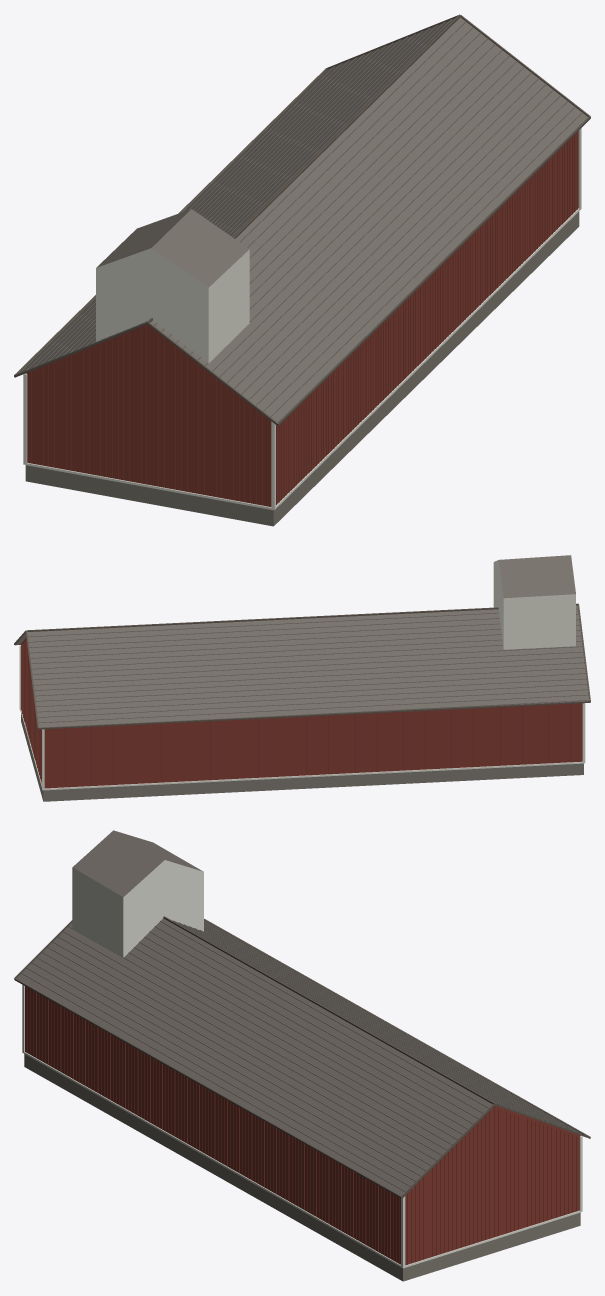
3 renders of one model, top to bottom at view 1: azimuth 30°, elevation 25°; view 2: azimuth 150°, elevation 25°; view 3: azimuth 270°, elevation 25°, orthographic. The views are drawn at different scales.
Visible parts, largest first — view 1: Tortuna facility | carpark-west-barn | Roof tile, Tortuna facility | carpark-west-barn | Timber, Tortuna facility | carpark-west-barn | Batten, Tortuna facility | carpark-west-barn | Tile course, Tortuna facility | carpark-west-barn | White trim, Tortuna facility | carpark-west-barn | Foundation, Tortuna facility | carpark-west-barn | Roof flashing; view 2: Tortuna facility | carpark-west-barn | Roof tile, Tortuna facility | carpark-west-barn | Timber, Tortuna facility | carpark-west-barn | Tile course, Tortuna facility | carpark-west-barn | Batten, Tortuna facility | carpark-west-barn | Foundation, Tortuna facility | carpark-west-barn | White trim, Tortuna facility | carpark-west-barn | Roof flashing; view 3: Tortuna facility | carpark-west-barn | Roof tile, Tortuna facility | carpark-west-barn | Timber, Tortuna facility | carpark-west-barn | Batten, Tortuna facility | carpark-west-barn | Tile course, Tortuna facility | carpark-west-barn | White trim, Tortuna facility | carpark-west-barn | Foundation, Tortuna facility | carpark-west-barn | Roof flashing.
Part boxes in pixels (x1,y1,x2,y2): Tortuna facility | carpark-west-barn | Roof tile: [21, 17, 587, 422]; Tortuna facility | carpark-west-barn | Timber: [26, 131, 578, 506]; Tortuna facility | carpark-west-barn | Batten: [30, 132, 577, 506]; Tortuna facility | carpark-west-barn | Tile course: [19, 19, 582, 422]; Tortuna facility | carpark-west-barn | White trim: [23, 128, 581, 510]; Tortuna facility | carpark-west-barn | Foundation: [25, 211, 579, 526]; Tortuna facility | carpark-west-barn | Roof flashing: [14, 14, 590, 425]; Tortuna facility | carpark-west-barn | Roof tile: [16, 555, 589, 727]; Tortuna facility | carpark-west-barn | Timber: [21, 638, 582, 788]; Tortuna facility | carpark-west-barn | Tile course: [17, 608, 589, 722]; Tortuna facility | carpark-west-barn | Batten: [21, 640, 579, 787]; Tortuna facility | carpark-west-barn | Foundation: [21, 713, 583, 801]; Tortuna facility | carpark-west-barn | White trim: [19, 560, 585, 790]; Tortuna facility | carpark-west-barn | Roof flashing: [14, 603, 590, 729]; Tortuna facility | carpark-west-barn | Roof tile: [17, 830, 581, 1195]; Tortuna facility | carpark-west-barn | Timber: [25, 986, 580, 1265]; Tortuna facility | carpark-west-barn | Batten: [26, 987, 577, 1264]; Tortuna facility | carpark-west-barn | Tile course: [16, 920, 583, 1191]; Tortuna facility | carpark-west-barn | White trim: [22, 860, 582, 1268]; Tortuna facility | carpark-west-barn | Foundation: [24, 1054, 580, 1281]; Tortuna facility | carpark-west-barn | Roof flashing: [14, 916, 590, 1198].
Size of the model in its own units: 29.55 by 10.32 by 25.79.
